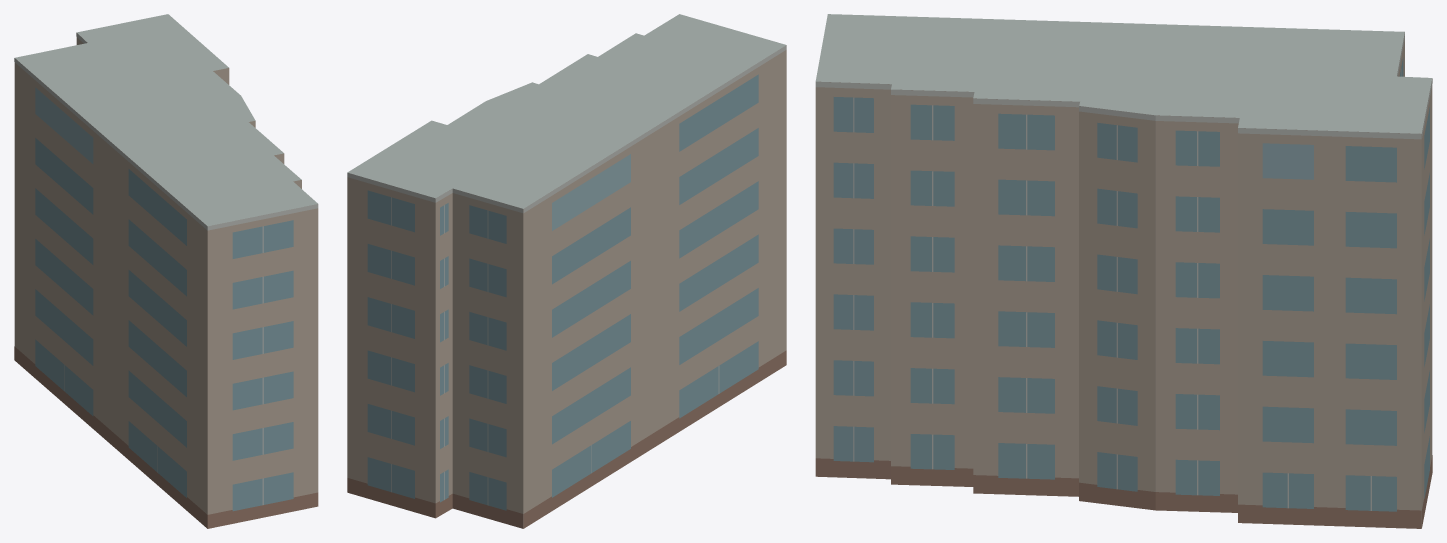
File: survey-upis-32870709.glb
3 renders of one model, left to right at view 1: azimuth 30°, elevation 25°; view 2: azimuth 150°, elevation 25°; view 3: azimuth 270°, elevation 25°, orthographic. The views are drawn at different scales.
Visible parts, largest first — view 1: survey-upis-32870709.tmp; view 2: survey-upis-32870709.tmp; view 3: survey-upis-32870709.tmp.
Part boxes in pixels (<box>): survey-upis-32870709.tmp: <box>14,14,318,528</box>; survey-upis-32870709.tmp: <box>347,14,786,528</box>; survey-upis-32870709.tmp: <box>815,14,1432,528</box>.
Bounding box in the file's own units: 11.26 × 17.3 × 24.49.
